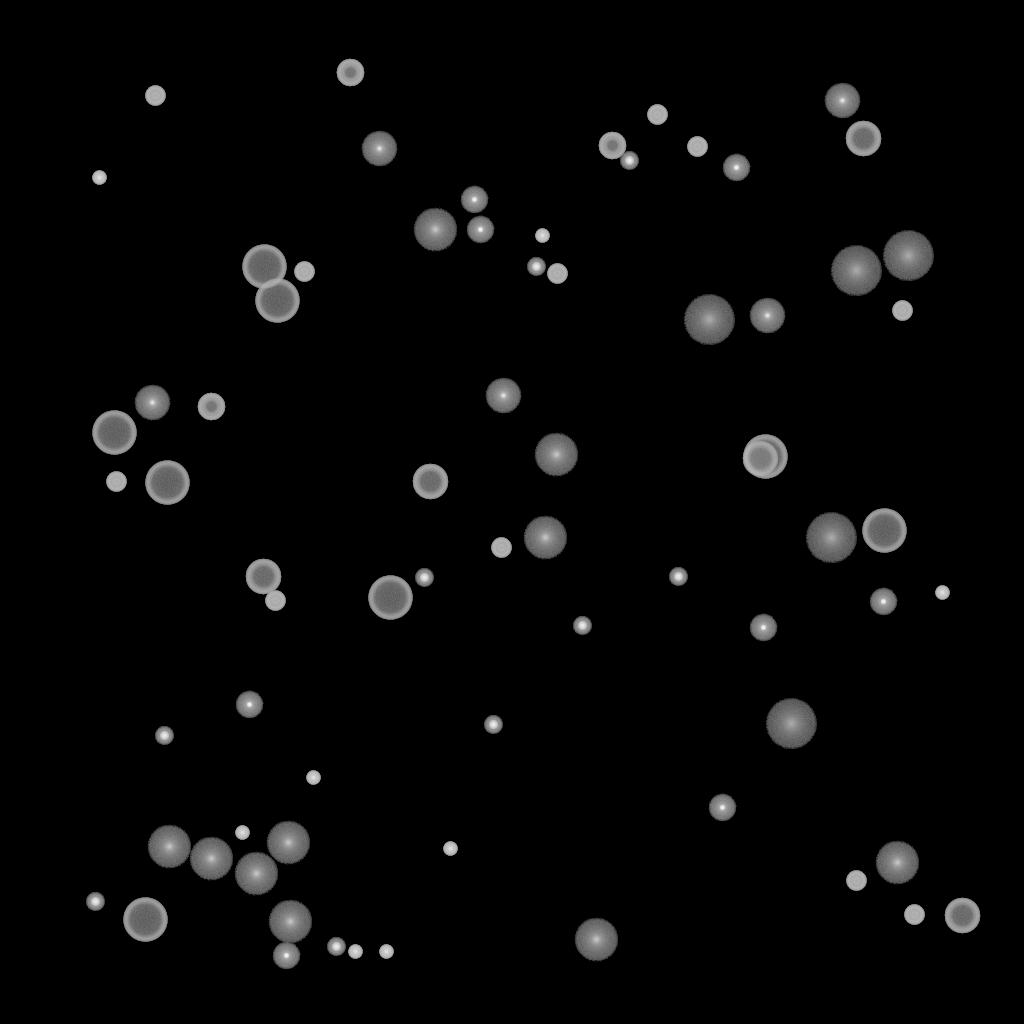depth:-10: (272, 942, 300, 970), (235, 691, 263, 719), (460, 186, 488, 214), (708, 794, 736, 822), (869, 588, 897, 616), (749, 614, 777, 642), (722, 154, 750, 182), (466, 216, 494, 244)
depth:-20: (669, 568, 687, 586), (620, 152, 638, 170), (573, 617, 591, 635), (327, 938, 345, 956), (155, 727, 173, 745), (86, 893, 104, 911), (484, 716, 502, 734), (527, 258, 545, 276), (415, 569, 433, 587)
depth:-30: (348, 945, 362, 959), (92, 171, 106, 185), (935, 586, 949, 600), (443, 842, 457, 856), (306, 771, 320, 785), (235, 826, 249, 840), (535, 229, 549, 243), (379, 945, 393, 959)
depth:-40: (892, 301, 912, 321), (145, 86, 165, 106), (106, 472, 126, 492), (687, 137, 707, 157), (846, 871, 866, 891), (904, 905, 924, 925), (647, 105, 667, 125), (547, 264, 567, 284), (294, 262, 314, 282), (265, 591, 285, 611), (491, 538, 511, 558)
depth:-50: (336, 59, 364, 87), (598, 132, 626, 160), (197, 393, 225, 421)
depth:-60: (742, 441, 778, 477), (845, 121, 881, 157), (245, 559, 281, 595), (412, 464, 448, 500), (944, 898, 980, 934)
depth:-70: (368, 576, 412, 620), (242, 245, 286, 289), (255, 279, 299, 323), (743, 435, 787, 479), (862, 509, 906, 553), (123, 898, 167, 942), (145, 461, 189, 505), (92, 411, 136, 455)
depth:0: (134, 385, 170, 421), (824, 83, 860, 119), (485, 378, 521, 414), (749, 298, 785, 334), (361, 131, 397, 167)
depth:10: (534, 433, 578, 477), (413, 208, 457, 252), (189, 837, 233, 881), (268, 900, 312, 944), (234, 852, 278, 896), (523, 516, 567, 560), (147, 825, 191, 869), (266, 821, 310, 865), (574, 918, 618, 962), (875, 841, 919, 885)
depth:20: (805, 513, 857, 563), (882, 231, 934, 281), (765, 699, 817, 749), (830, 246, 882, 296), (683, 295, 735, 345)
